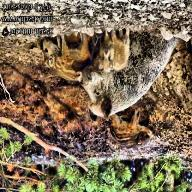boar: (80, 16, 182, 149), (92, 19, 137, 80)
